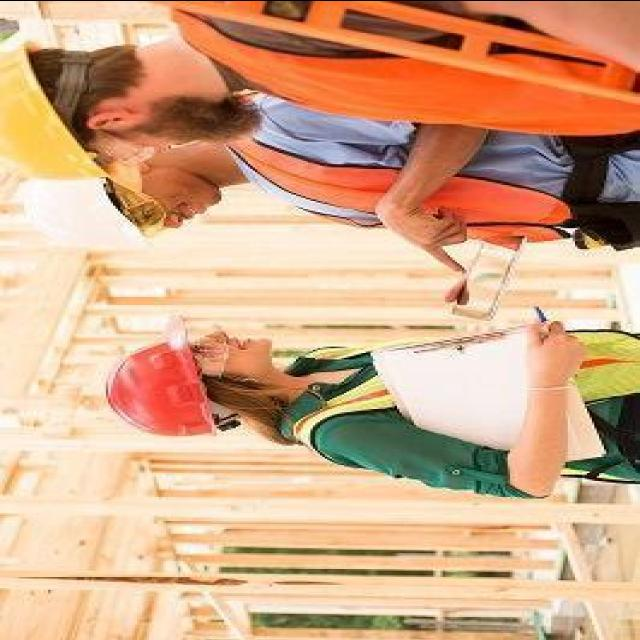helmet: (0, 34, 108, 177), (106, 314, 218, 450), (8, 176, 158, 252)
